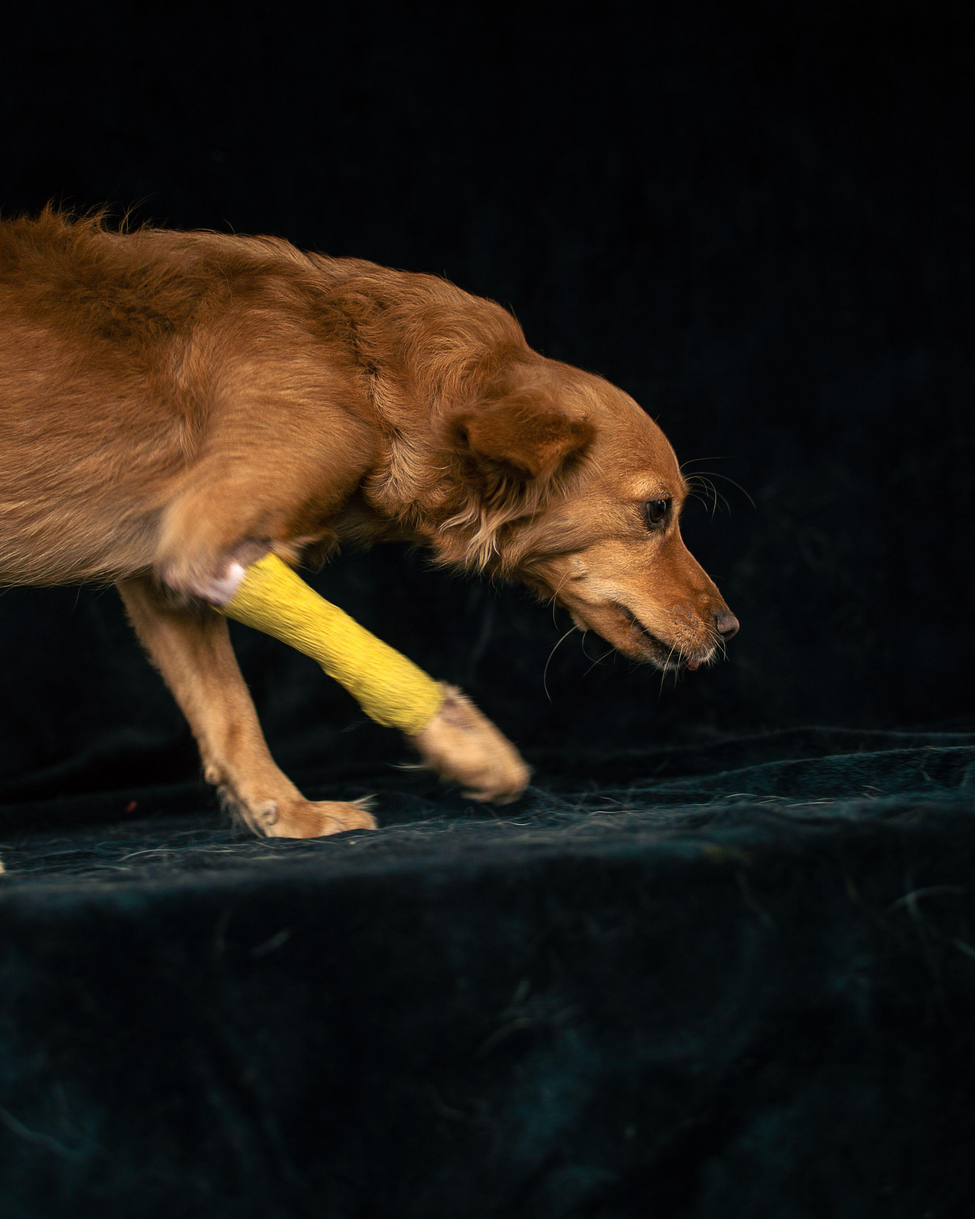fracture: (158, 490, 559, 844)
